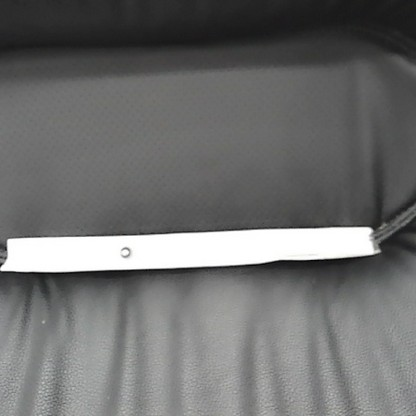ironball: (117, 243, 132, 259)
